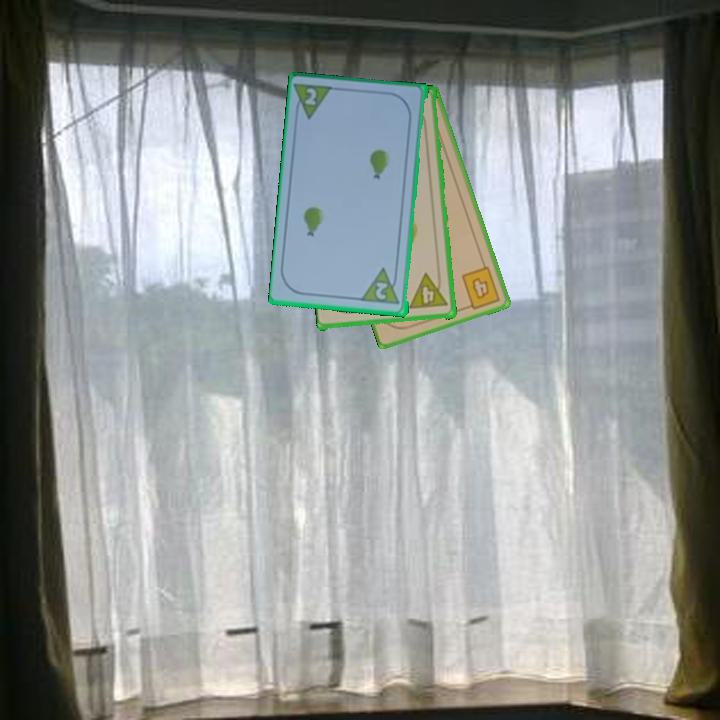2p: (372, 279, 391, 303), (302, 84, 320, 108)
4b: (458, 263, 503, 312)
4p: (406, 270, 451, 312)
